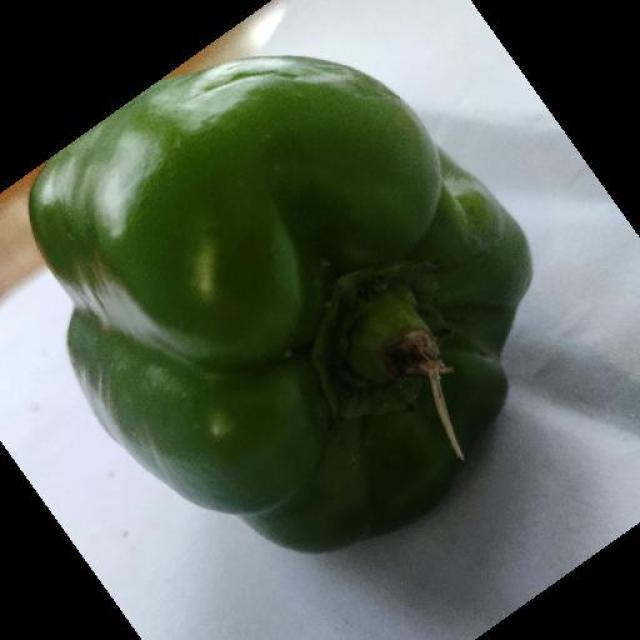Fresh_Capsicum: (46, 47, 564, 563)
